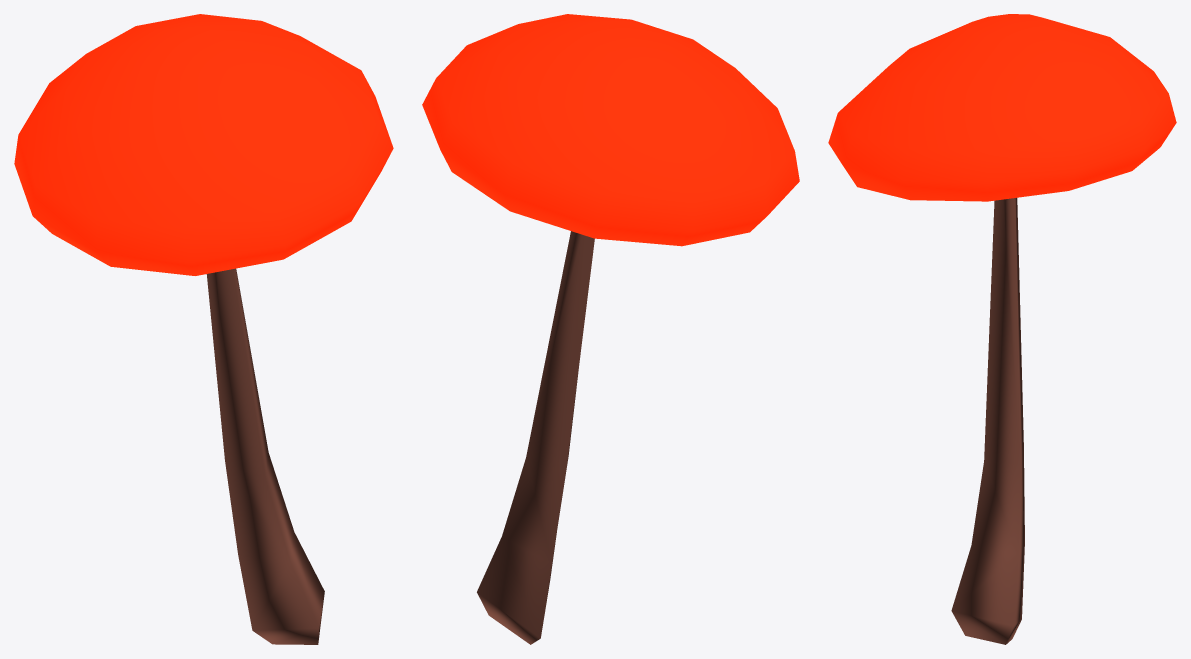
Rendered from LMR 1.fbx.
The picture shows the model from 3 angles, left to right: view 1: azimuth 30°, elevation 25°; view 2: azimuth 150°, elevation 25°; view 3: azimuth 270°, elevation 25°; orthographic projection. The views are drawn at different scales.
Parts seen in each view (by area): view 1: LMR_l.001, LMR_l; view 2: LMR_l.001, LMR_l; view 3: LMR_l.001, LMR_l.
Boxes of the visible parts, <box> form: LMR_l.001: <box>14,14,393,275</box>; LMR_l: <box>206,268,324,644</box>; LMR_l.001: <box>422,14,799,246</box>; LMR_l: <box>477,231,594,644</box>; LMR_l.001: <box>828,14,1176,201</box>; LMR_l: <box>951,198,1024,644</box>.
Size of the model in its own units: 289 by 289 by 530.
